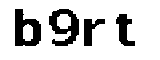9: (44, 7, 79, 49)
b: (8, 6, 42, 52)
r: (81, 16, 103, 47)
t: (113, 13, 135, 50)
